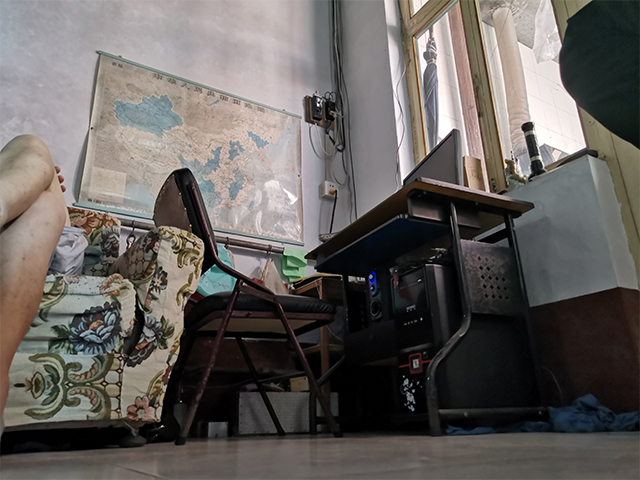sofa: (1, 203, 207, 450)
stool: (150, 166, 346, 447)
table: (301, 176, 551, 438)
